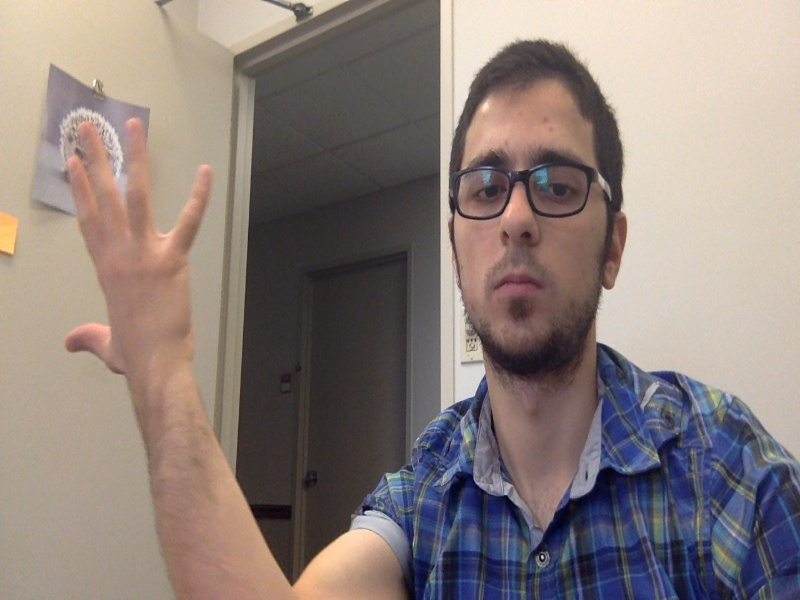5-hand: (57, 122, 219, 391)
